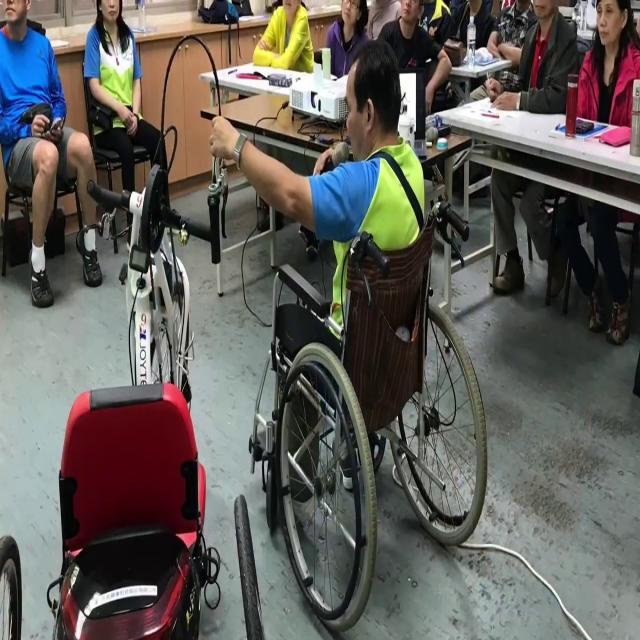wheelchairs: (237, 178, 510, 640)
